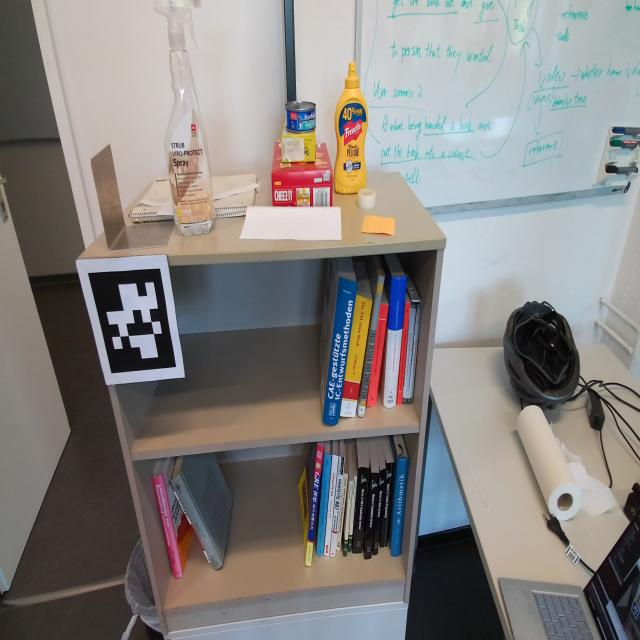Book Spine: (323, 276, 358, 426), (170, 472, 223, 570), (340, 295, 373, 418), (359, 276, 385, 418), (169, 481, 211, 563), (152, 474, 183, 579), (383, 276, 407, 408), (305, 444, 324, 567), (367, 304, 389, 407), (391, 458, 409, 557), (316, 452, 332, 556), (330, 455, 345, 558), (324, 454, 339, 556), (352, 467, 369, 553), (402, 304, 416, 404), (397, 302, 410, 404), (408, 303, 421, 403), (365, 473, 379, 559), (380, 463, 394, 548), (373, 469, 386, 555), (336, 473, 348, 552), (343, 481, 353, 557), (348, 476, 357, 552)
